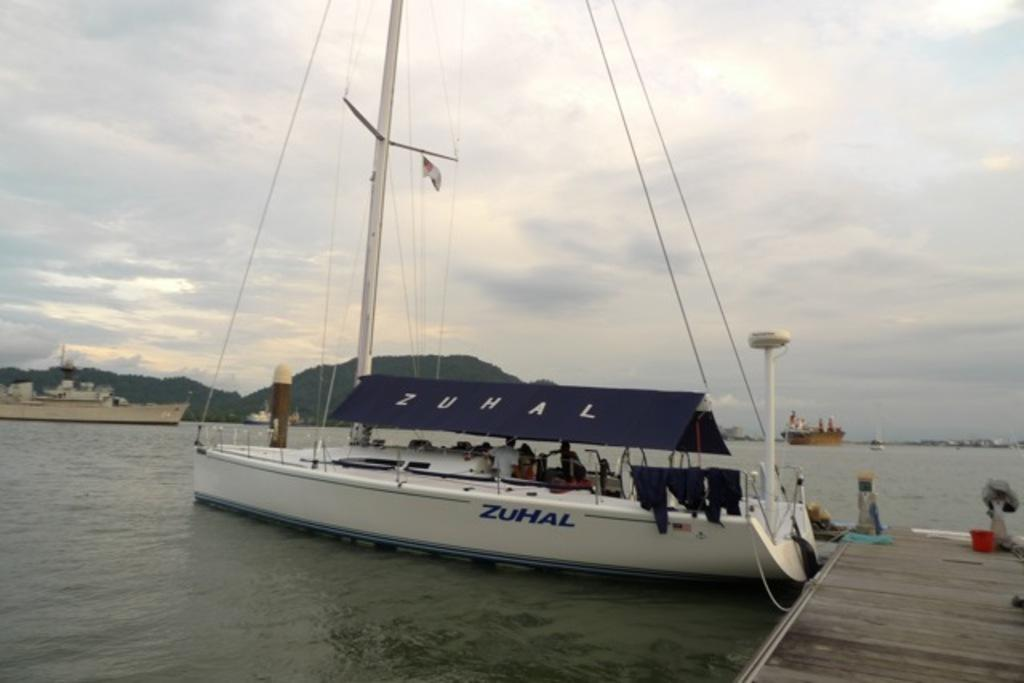PassengerShip: (189, 427, 823, 576)
